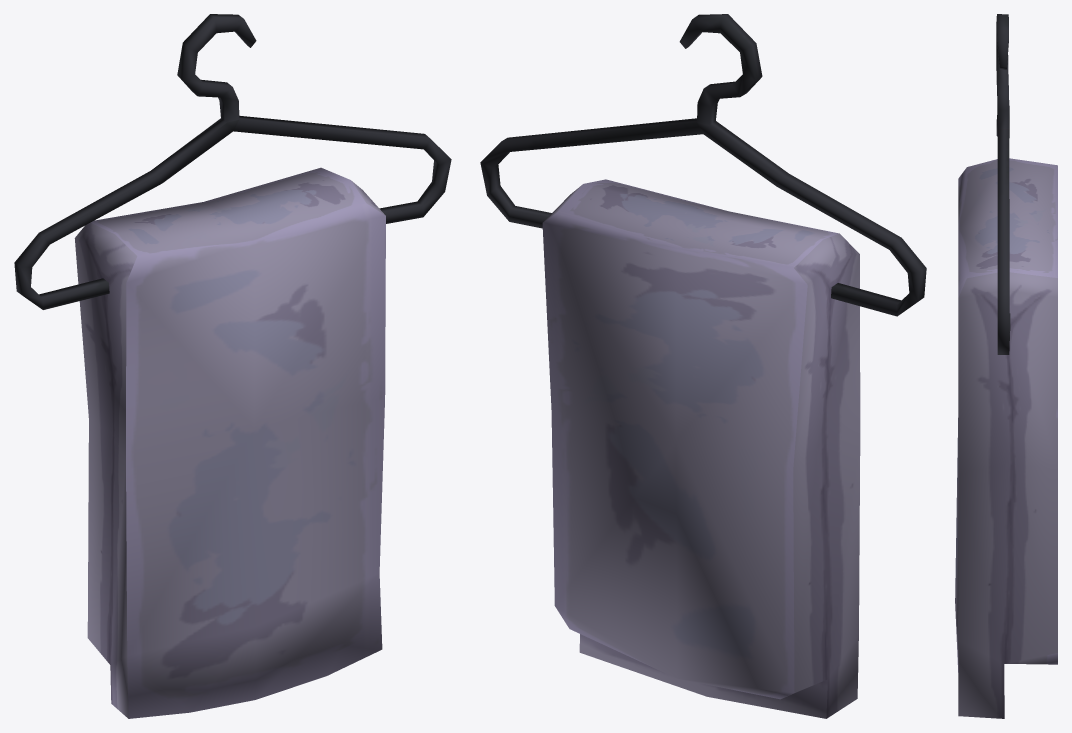
Rendered from SM_PROP_hanger_interior_04.fbx.
The picture shows the model from 3 angles, left to right: view 1: azimuth 30°, elevation 25°; view 2: azimuth 150°, elevation 25°; view 3: azimuth 270°, elevation 25°; orthographic projection. The views are drawn at different scales.
Parts seen in each view (by area): view 1: SM_PROP_hanger_interior_04; view 2: SM_PROP_hanger_interior_04; view 3: SM_PROP_hanger_interior_04.
Part boxes in pixels (x1,y1,x2,y2): SM_PROP_hanger_interior_04: (14, 14, 451, 718); SM_PROP_hanger_interior_04: (480, 14, 926, 718); SM_PROP_hanger_interior_04: (955, 14, 1057, 718).
Bounding box in the file's own units: 46.56 × 69.43 × 9.9.
